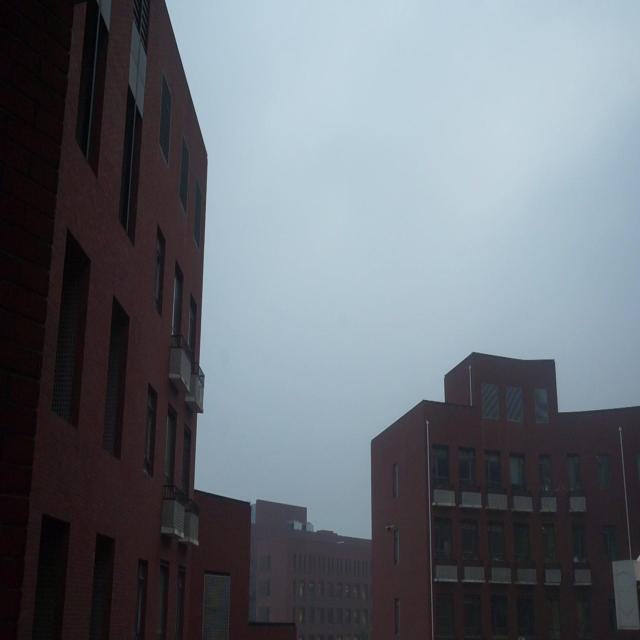drone: (384, 519, 396, 536)
